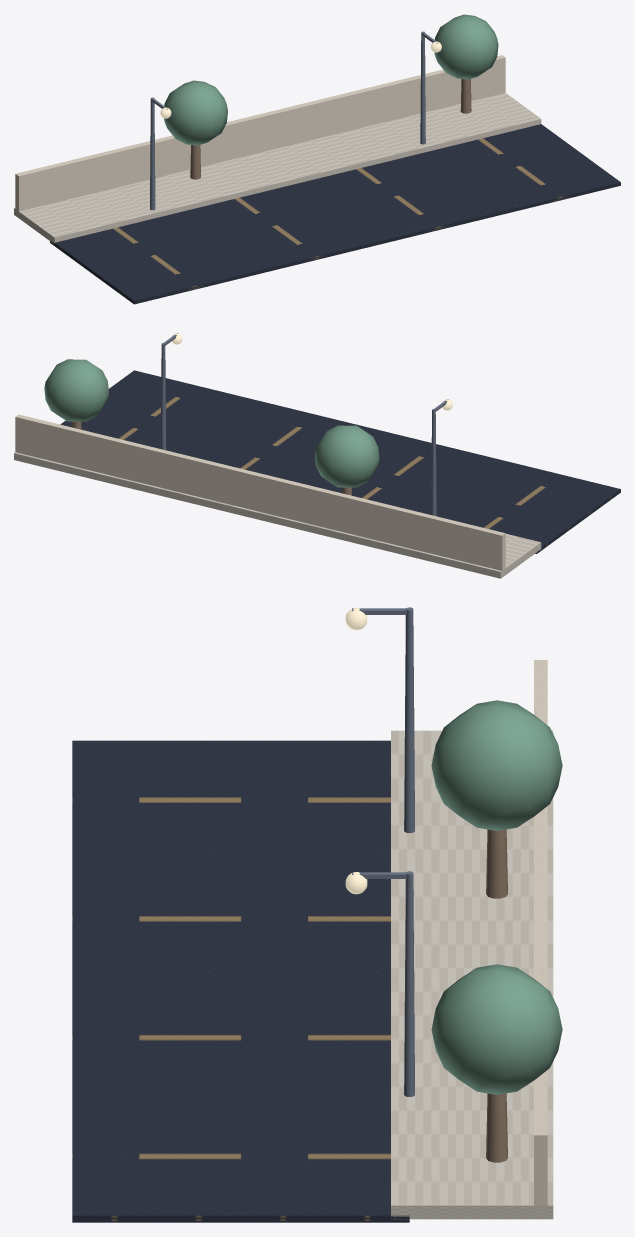
File: ch5_env_walk_home_street.glb
3 views of the same model, one above another, from view 1: azimuth 30°, elevation 25°; view 2: azimuth 150°, elevation 25°; view 3: azimuth 270°, elevation 25° (orthographic). The views are drawn at different scales.
Parts seen in each view (by area): view 1: ch5_env_walk_home_street; view 2: ch5_env_walk_home_street; view 3: ch5_env_walk_home_street.
Boxes of the visible parts, box(x1,y1,x2,y2) form: ch5_env_walk_home_street: box(14, 14, 620, 304); ch5_env_walk_home_street: box(14, 333, 620, 578); ch5_env_walk_home_street: box(72, 607, 562, 1222).
Size of the model in its own units: 18 by 4.22 by 7.85.
Materials: 9 (3 with a texture image).
